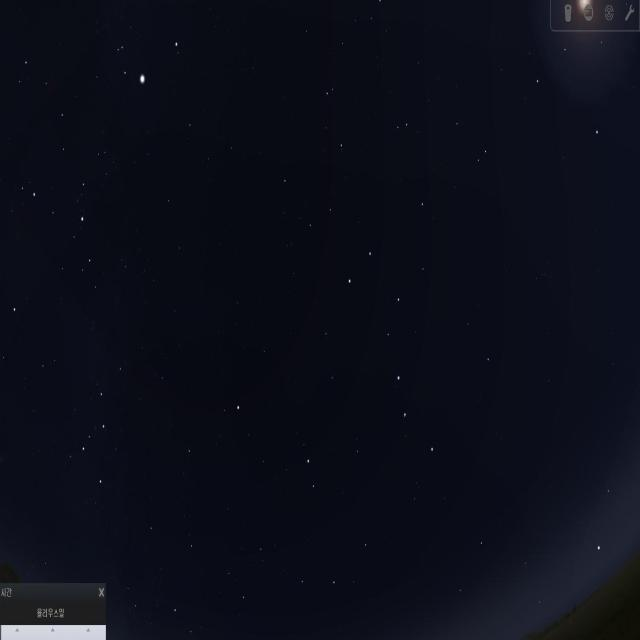cassiopeia: (66, 347, 160, 509)
ursa_major: (345, 243, 440, 465)
